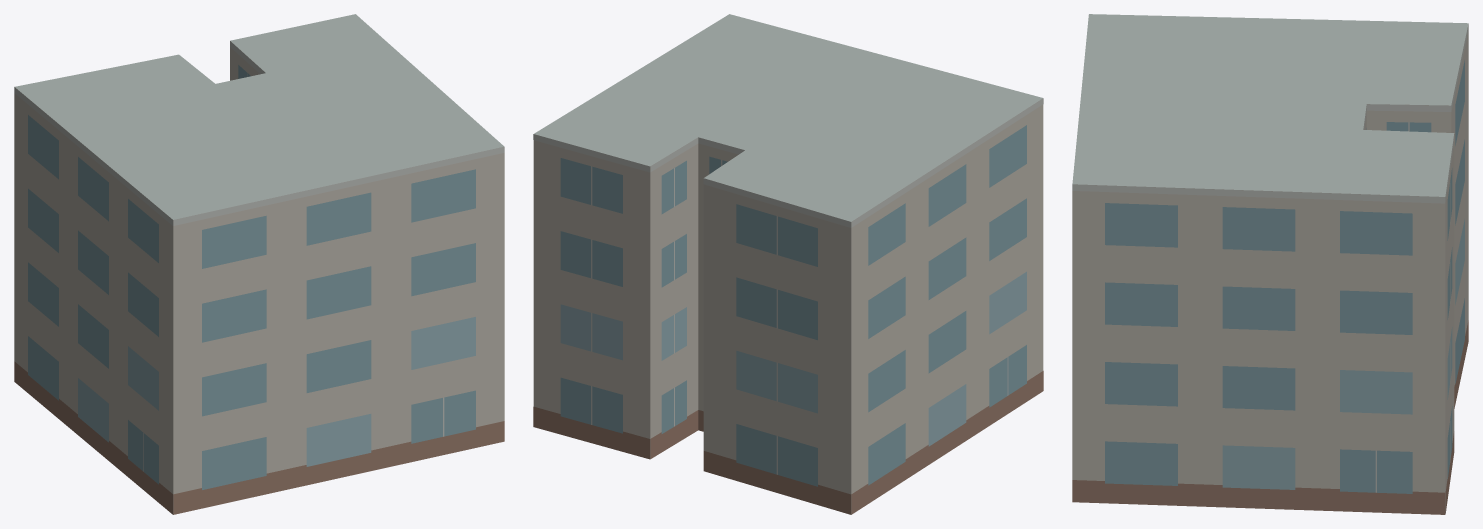
Rendered from survey-upis-32499958.glb.
The picture shows the model from 3 angles, left to right: view 1: azimuth 30°, elevation 25°; view 2: azimuth 150°, elevation 25°; view 3: azimuth 270°, elevation 25°; orthographic projection. The views are drawn at different scales.
Visible parts, largest first — view 1: survey-upis-32499958.tmp; view 2: survey-upis-32499958.tmp; view 3: survey-upis-32499958.tmp.
Part boxes in pixels (x1,y1,x2,y2): survey-upis-32499958.tmp: [14, 14, 504, 514]; survey-upis-32499958.tmp: [533, 14, 1043, 514]; survey-upis-32499958.tmp: [1072, 14, 1468, 514].
Bounding box in the file's own units: 14.46 × 11.7 × 13.23.
